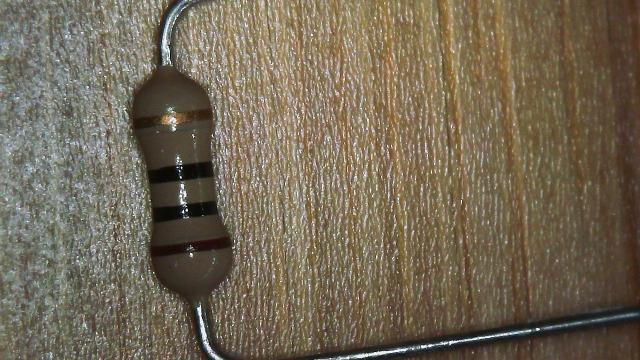black: (144, 164, 222, 180), (152, 204, 224, 221)
brown: (148, 240, 232, 255)
gold: (125, 111, 220, 129)
resistor: (114, 57, 248, 317)
